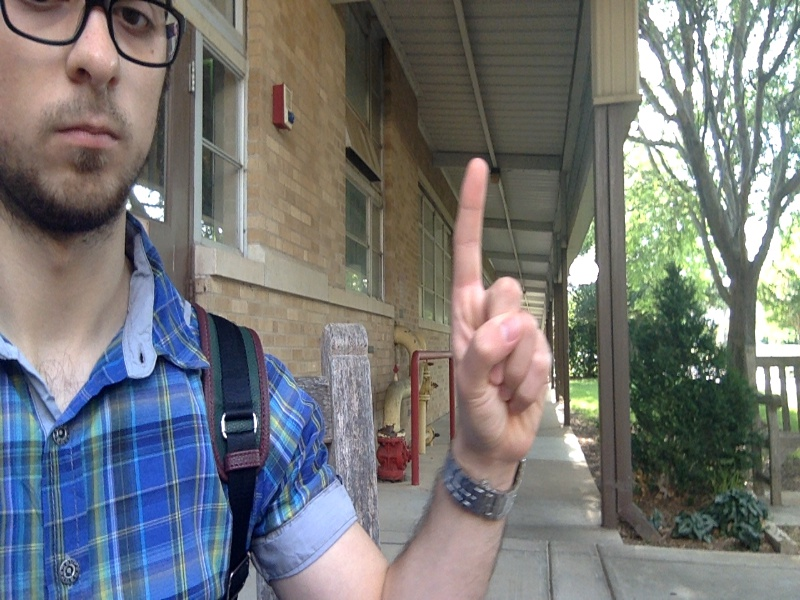1-hand: (448, 159, 554, 463)
